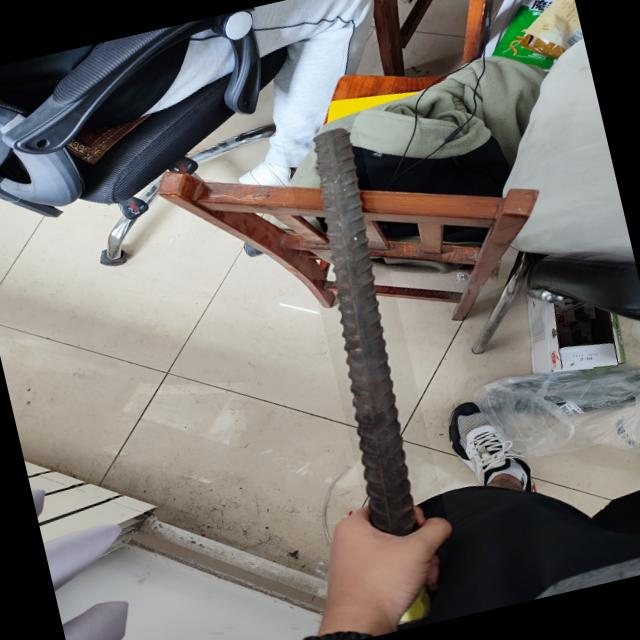ribbed bar: (282, 125, 448, 539)
